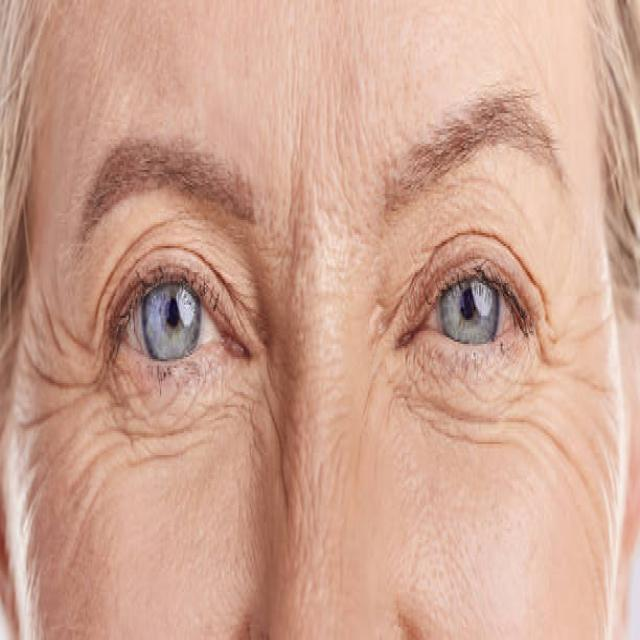dry: (328, 368, 620, 612), (15, 368, 289, 610)
